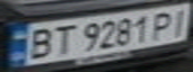1: (130, 12, 154, 43)
2: (96, 17, 121, 51)
8: (115, 15, 139, 47)
9: (75, 19, 103, 53)
B: (21, 25, 57, 61)
I: (166, 4, 193, 37)
P: (148, 8, 181, 39)
T: (48, 22, 78, 56)
